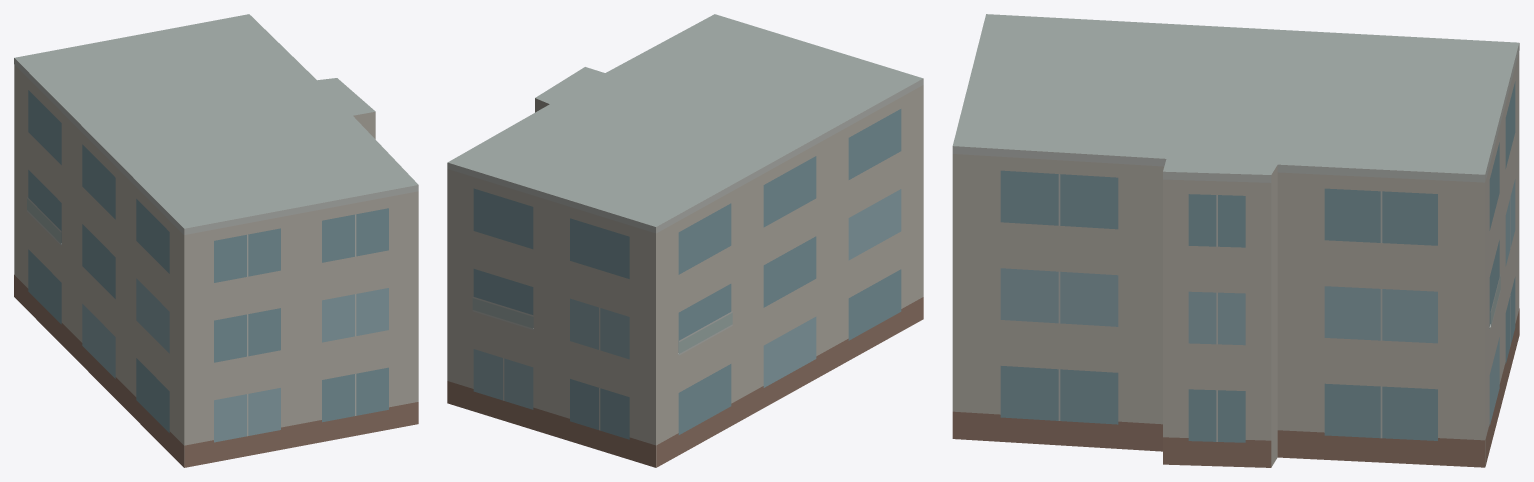
File: survey-upis-32888068.glb
3 views of the same model, side by side, from view 1: azimuth 30°, elevation 25°; view 2: azimuth 150°, elevation 25°; view 3: azimuth 270°, elevation 25° (orthographic). The views are drawn at different scales.
Parts seen in each view (by area): view 1: survey-upis-32888068.tmp; view 2: survey-upis-32888068.tmp; view 3: survey-upis-32888068.tmp.
Boxes of the visible parts, box(x1,y1,x2,y2) form: survey-upis-32888068.tmp: box(14, 14, 418, 467); survey-upis-32888068.tmp: box(447, 14, 923, 467); survey-upis-32888068.tmp: box(952, 14, 1519, 467).
Size of the model in its own units: 10.8 by 9.15 by 16.06.
